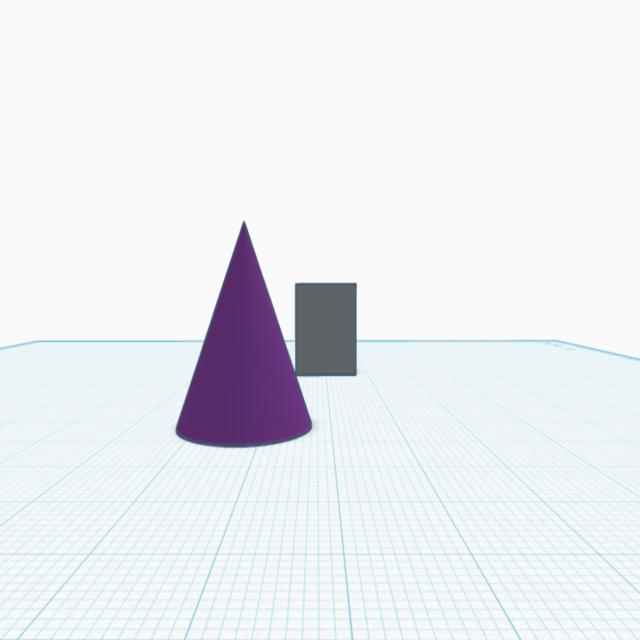cone: (171, 214, 314, 452)
cube: (293, 278, 360, 376)
